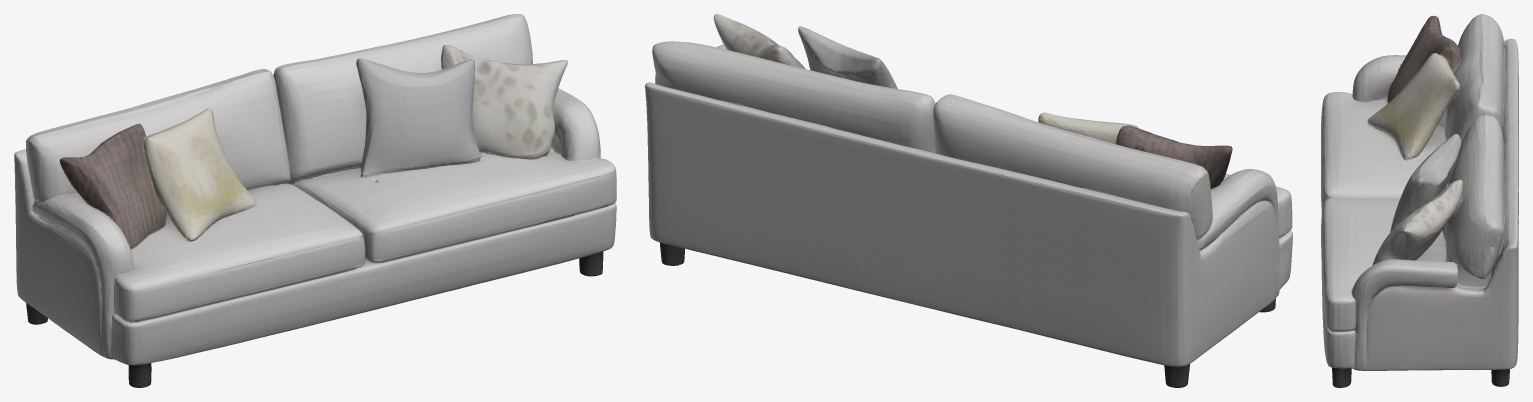
The model's file is ours.glb.
The picture shows the model from 3 angles, left to right: view 1: azimuth 30°, elevation 25°; view 2: azimuth 150°, elevation 25°; view 3: azimuth 270°, elevation 25°; orthographic projection. The views are drawn at different scales.
Visible parts, largest first — view 1: world; view 2: world; view 3: world.
Boxes of the visible parts, <box> form: world: <box>14,14,616,387</box>; world: <box>645,14,1292,387</box>; world: <box>1321,14,1518,387</box>.
Bounding box in the file's own units: 0.9937 × 0.3905 × 0.3882.
